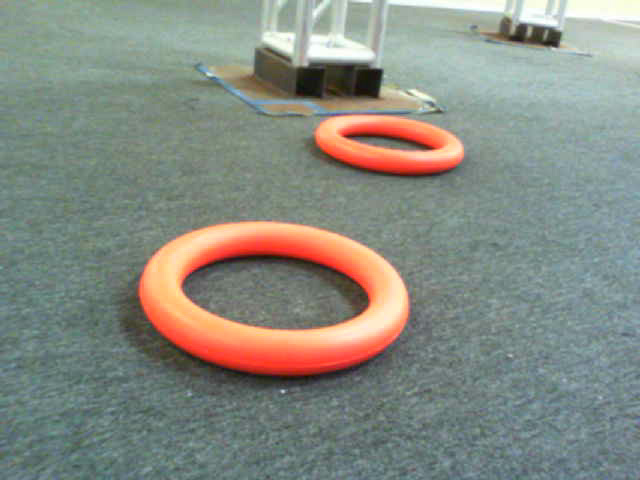Note: (145, 223, 414, 382), (317, 122, 473, 179)
